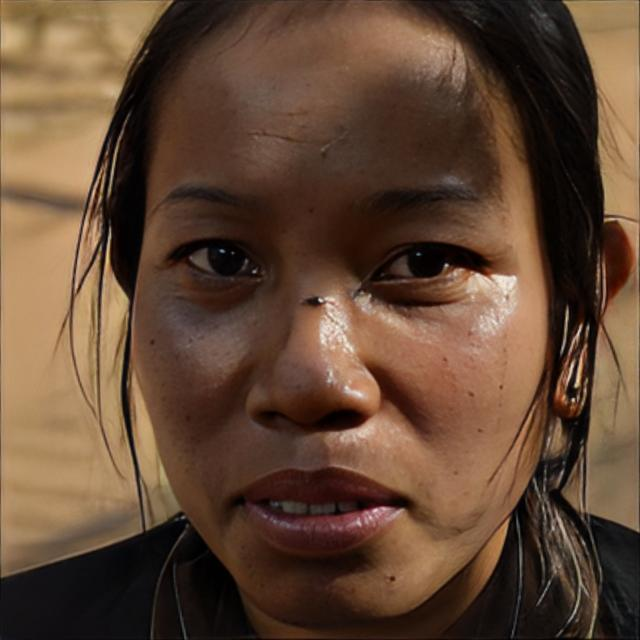sad: (125, 0, 555, 623)
